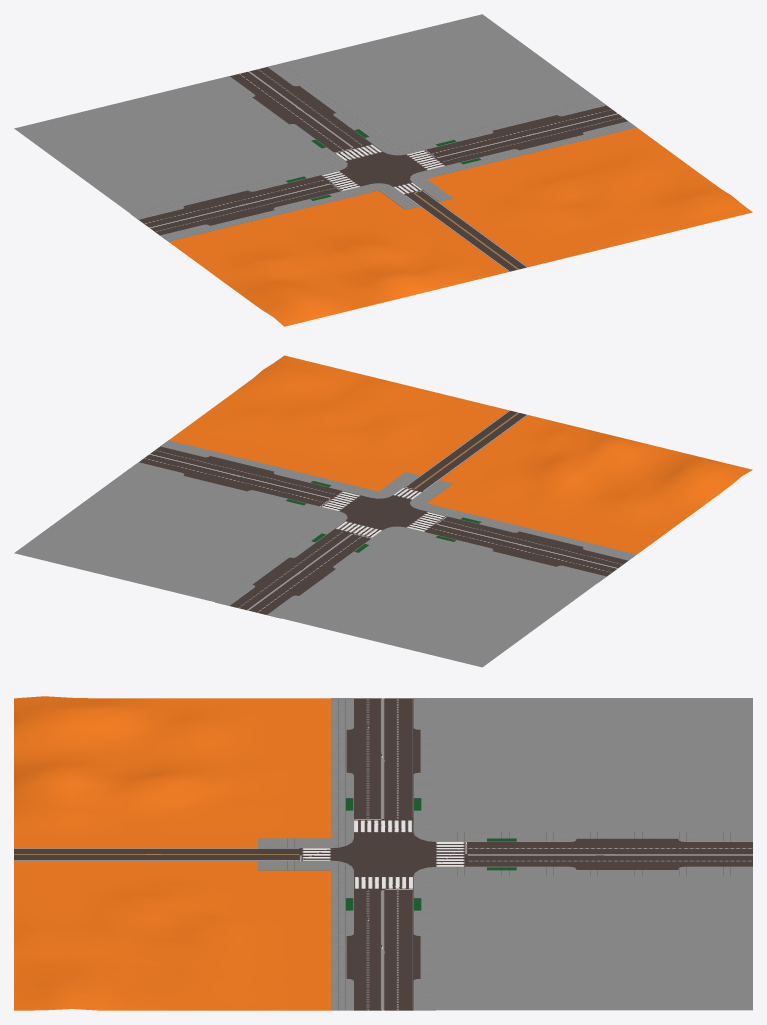
The model's file is TileCityDesert1.fbx.
3 renders of one model, top to bottom at view 1: azimuth 30°, elevation 25°; view 2: azimuth 150°, elevation 25°; view 3: azimuth 270°, elevation 25°, orthographic. The views are drawn at different scales.
Visible parts, largest first — view 1: Plane.045, Sidewalk1.117, Road1.018, Road1.019, Road.001, Road1.001, Sidewalk1.092, Sidewalk1.093, Sidewalk1.085; view 2: Plane.045, Sidewalk1.117, Road1.018, Road1.019, Road.001, Road1.001, Sidewalk1.092, Sidewalk1.093, Sidewalk1.085; view 3: Plane.045, Sidewalk1.117, Road1.018, Road1.019, Road.001, Road1.001, Sidewalk1.085, Sidewalk1.092, Sidewalk1.093, Sidewalk1.089, Road1.012, Sidewalk1.134 (+18 smaller).
Part boxes in pixels (x1,y1,x2,y2): Plane.045: (168, 127, 752, 326); Sidewalk1.117: (14, 14, 598, 213); Road1.018: (138, 105, 627, 235); Road1.019: (230, 67, 370, 152); Road.001: (405, 191, 527, 271); Road1.001: (339, 152, 426, 186); Sidewalk1.092: (266, 169, 350, 208); Sidewalk1.093: (416, 132, 500, 171); Sidewalk1.085: (294, 120, 386, 156); Plane.045: (169, 355, 752, 554); Sidewalk1.117: (14, 468, 597, 667); Road1.018: (139, 446, 627, 576); Road1.019: (230, 529, 370, 614); Road.001: (405, 410, 527, 491); Road1.001: (340, 495, 427, 529); Sidewalk1.092: (416, 510, 500, 549); Sidewalk1.093: (266, 473, 350, 512); Sidewalk1.085: (293, 525, 386, 560); Plane.045: (14, 696, 330, 1010); Sidewalk1.117: (436, 698, 752, 1010); Road1.018: (354, 698, 412, 1010); Road1.019: (467, 842, 752, 866); Road.001: (14, 848, 299, 860); Road1.001: (331, 832, 435, 876); Sidewalk1.085: (464, 832, 538, 876); Sidewalk1.092: (331, 788, 435, 819); Sidewalk1.093: (331, 888, 435, 919); Sidewalk1.089: (605, 832, 649, 876); Road1.012: (354, 876, 412, 890); Sidewalk1.134: (331, 948, 435, 966).
Size of the model in its own units: 20008 by 322 by 20000.
